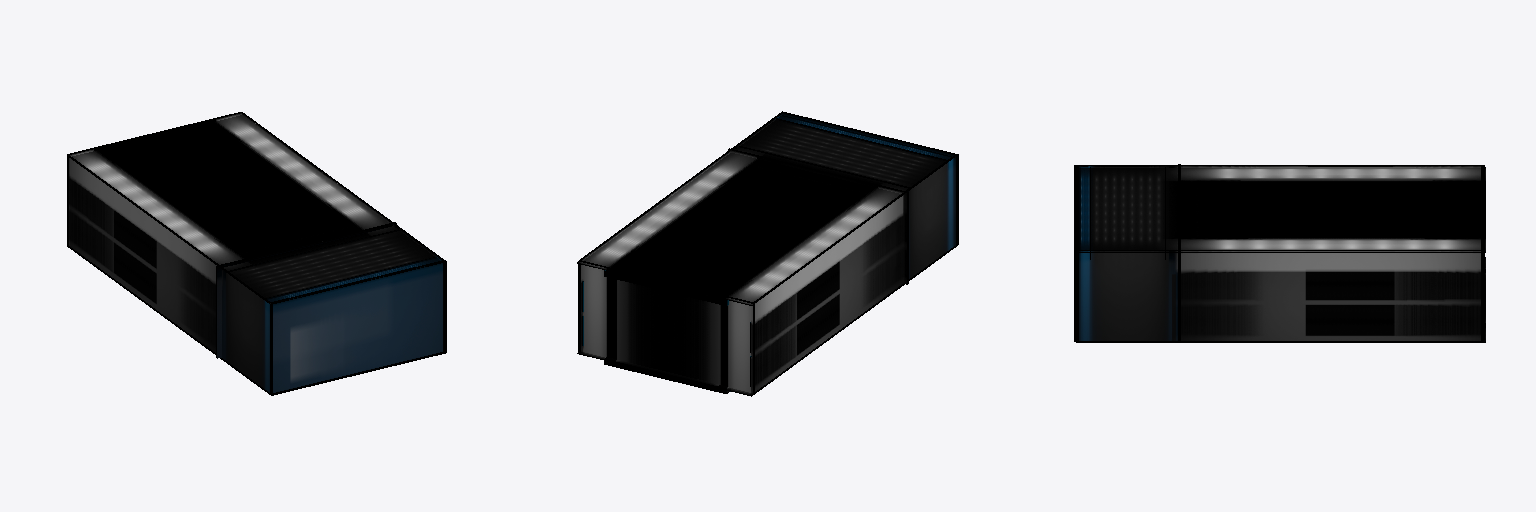
The picture shows the model from 3 angles: view 1: azimuth 30°, elevation 25°; view 2: azimuth 150°, elevation 25°; view 3: azimuth 270°, elevation 25°; orthographic projection.
Visible parts, largest first — view 1: Box005, Box006, Box022; view 2: Box005, Box006, Box020, Box022; view 3: Box005, Box006.
Boxes of the visible parts, x1=… form: Box005: x1=67, y1=112, x2=446, y2=395; Box006: x1=69, y1=115, x2=445, y2=395; Box022: x1=229, y1=229, x2=436, y2=299; Box005: x1=578, y1=111, x2=958, y2=394; Box006: x1=577, y1=115, x2=954, y2=396; Box020: x1=604, y1=270, x2=730, y2=393; Box022: x1=582, y1=118, x2=946, y2=386; Box005: x1=1074, y1=164, x2=1484, y2=342; Box006: x1=1076, y1=167, x2=1485, y2=342.
Bounding box in the file's own units: 20.35 × 10.46 × 40.36.
5 materials, 5 textured.